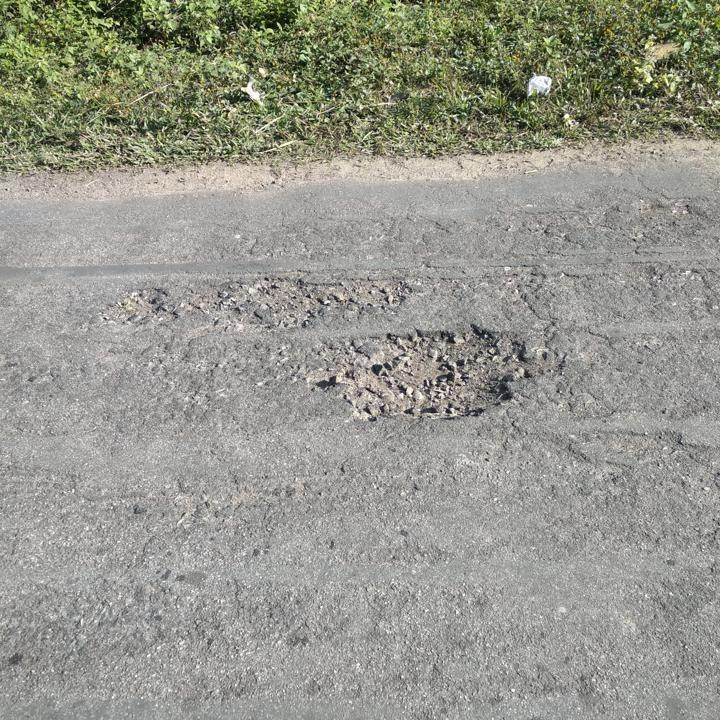pothole: (323, 321, 540, 424), (195, 271, 416, 330), (94, 283, 184, 332)
